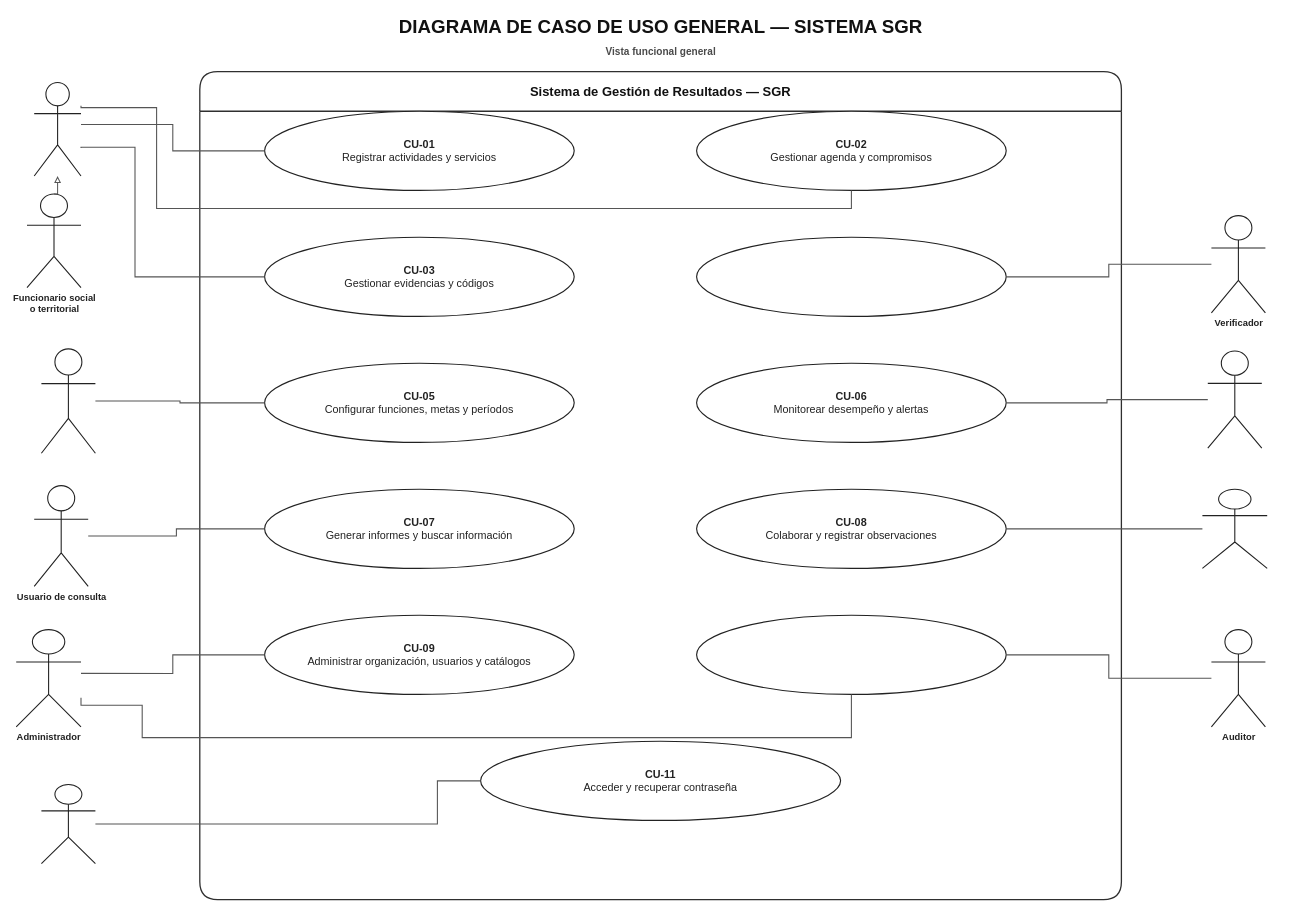
Some shapes in this 1293 by 912 pixel diagram are drawn without their labels. Each missing label, with the centre of its shape:
"Coordinador del sistema" belongs at pixel 68 400.
"CU-04 Validar actividades y evidencias" belongs at pixel 851 276.
"CU-10 Consultar trazabilidad y auditoría" belongs at pixel 851 654.
"Delegado, jefatura o supervisor" belongs at pixel 1234 399.
"Funcionario" belongs at pixel 57 129.
"Usuario colaborador" belongs at pixel 1234 528.
"Usuario del sistema" belongs at pixel 68 824.
